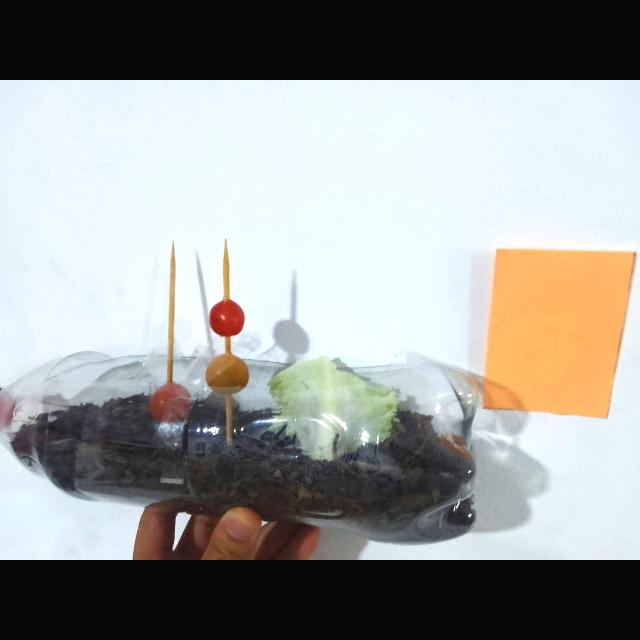card: (484, 249, 635, 417)
fruit_maturation: (205, 353, 249, 395), (149, 382, 191, 422)
fully_grown: (209, 299, 244, 337)
